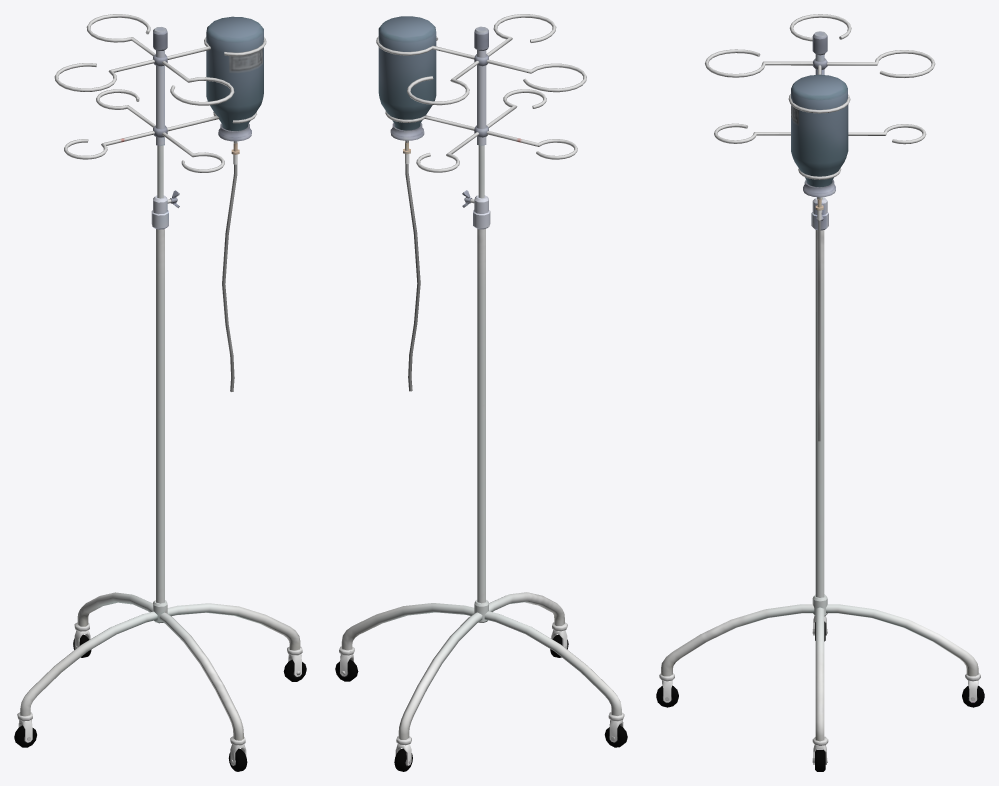
File: HospitalHanger2.FBX
3 renders of one model, left to right at view 1: azimuth 30°, elevation 25°; view 2: azimuth 150°, elevation 25°; view 3: azimuth 270°, elevation 25°, orthographic.
Visible parts, largest first — view 1: Dropper2, Dropper2_bottle; view 2: Dropper2, Dropper2_bottle; view 3: Dropper2, Dropper2_bottle.
Part boxes in pixels (x1,y1,x2,y2): Dropper2: (17,14,302,745); Dropper2_bottle: (206,16,263,391); Dropper2: (339,14,624,745); Dropper2_bottle: (378,16,436,391); Dropper2: (659,14,980,762); Dropper2_bottle: (791,74,848,441).
Bounding box in the file's own units: 74.39 × 168 × 74.39.
